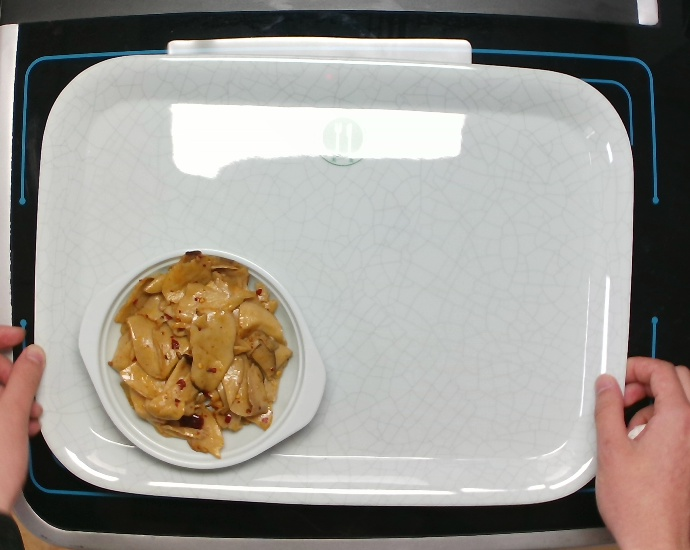JYsf-Shuang_Er_Pan: (70, 243, 329, 478)
